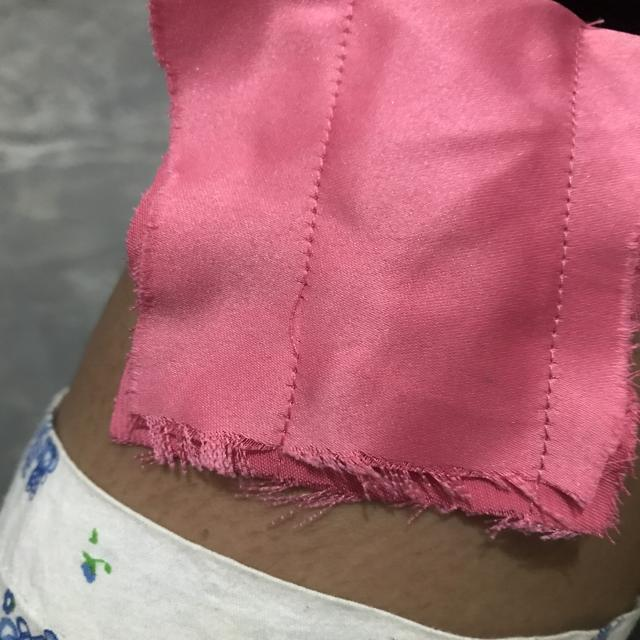good: (538, 217, 582, 342)
skip: (257, 279, 331, 376)
